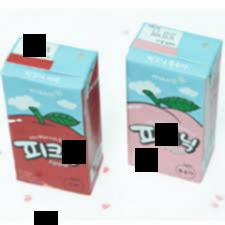picnic_apple: (5, 54, 102, 196)
